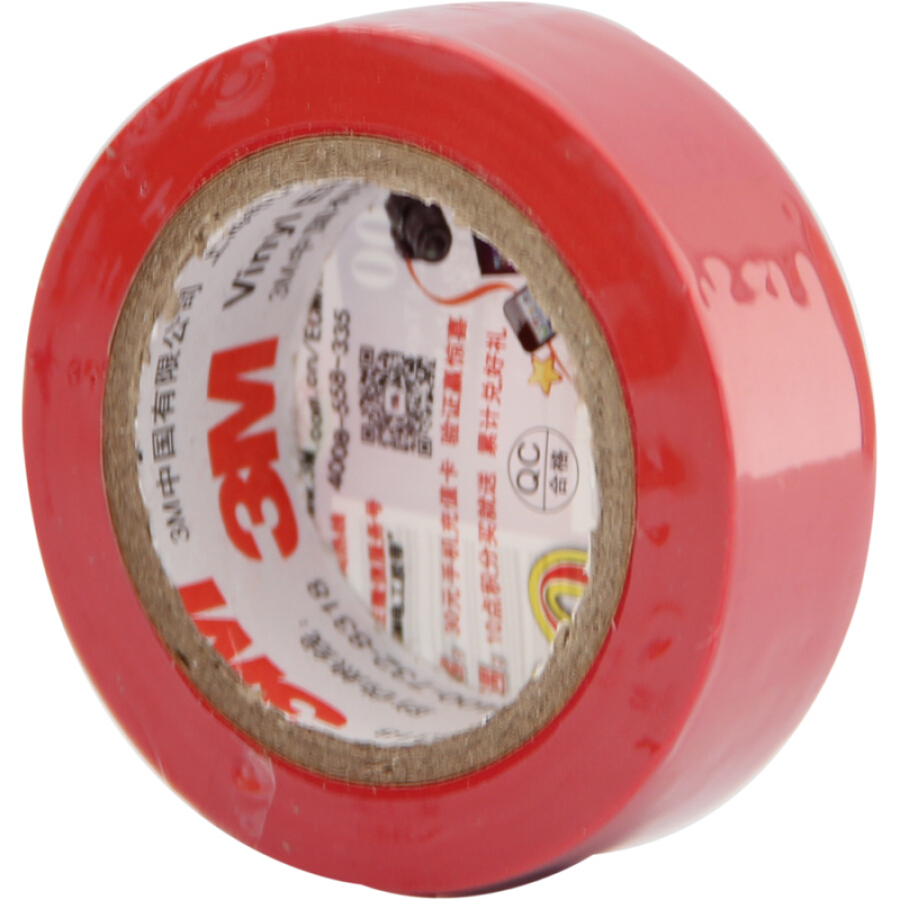3M: (198, 321, 307, 569)
